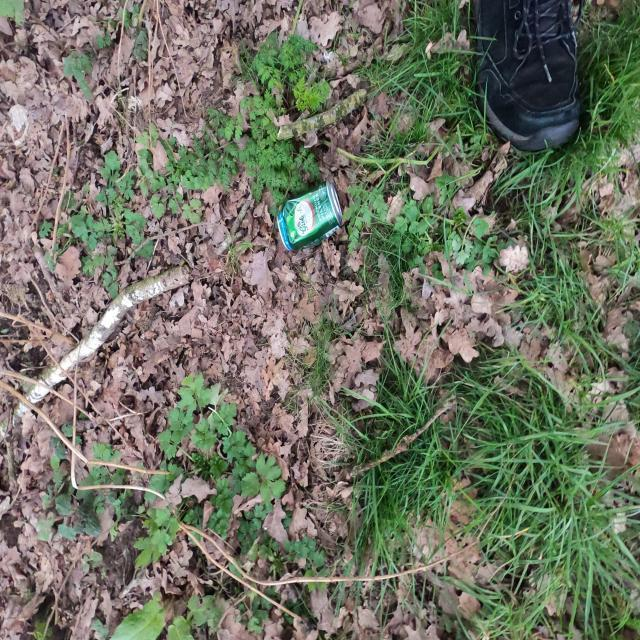Can-Metal: (276, 178, 344, 253)
